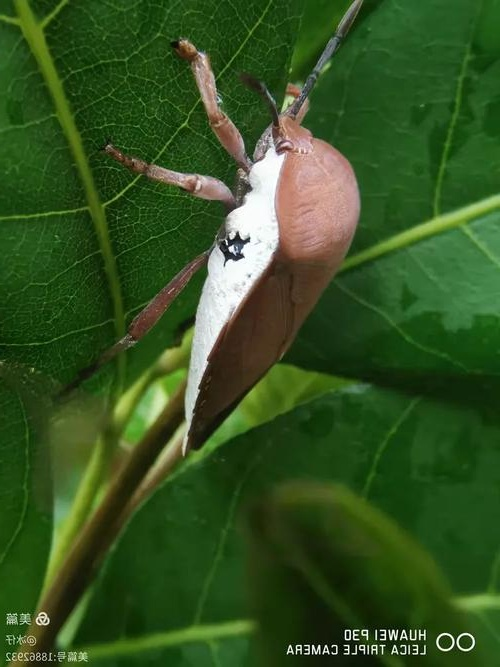Stink_Bug: (108, 93, 354, 422)
